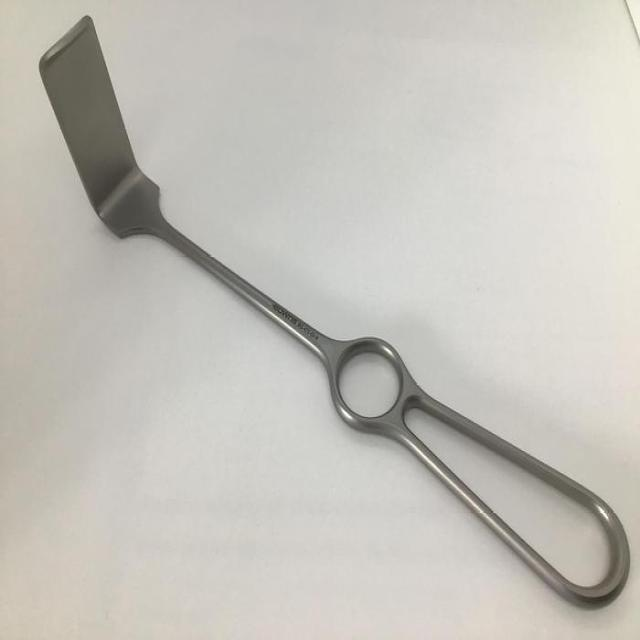Langenbach Retractor: (39, 11, 632, 617)
